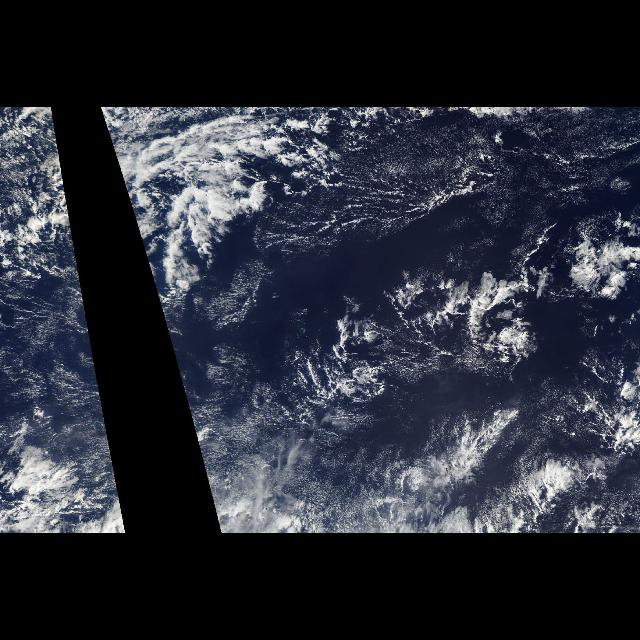Sugar: (177, 366, 518, 516), (326, 142, 640, 254), (68, 366, 124, 516)
